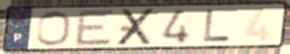4: (242, 6, 275, 44), (160, 8, 193, 46)
E: (73, 8, 117, 48)
L: (201, 8, 233, 44)
O: (34, 9, 72, 47)
X: (114, 7, 159, 48)
